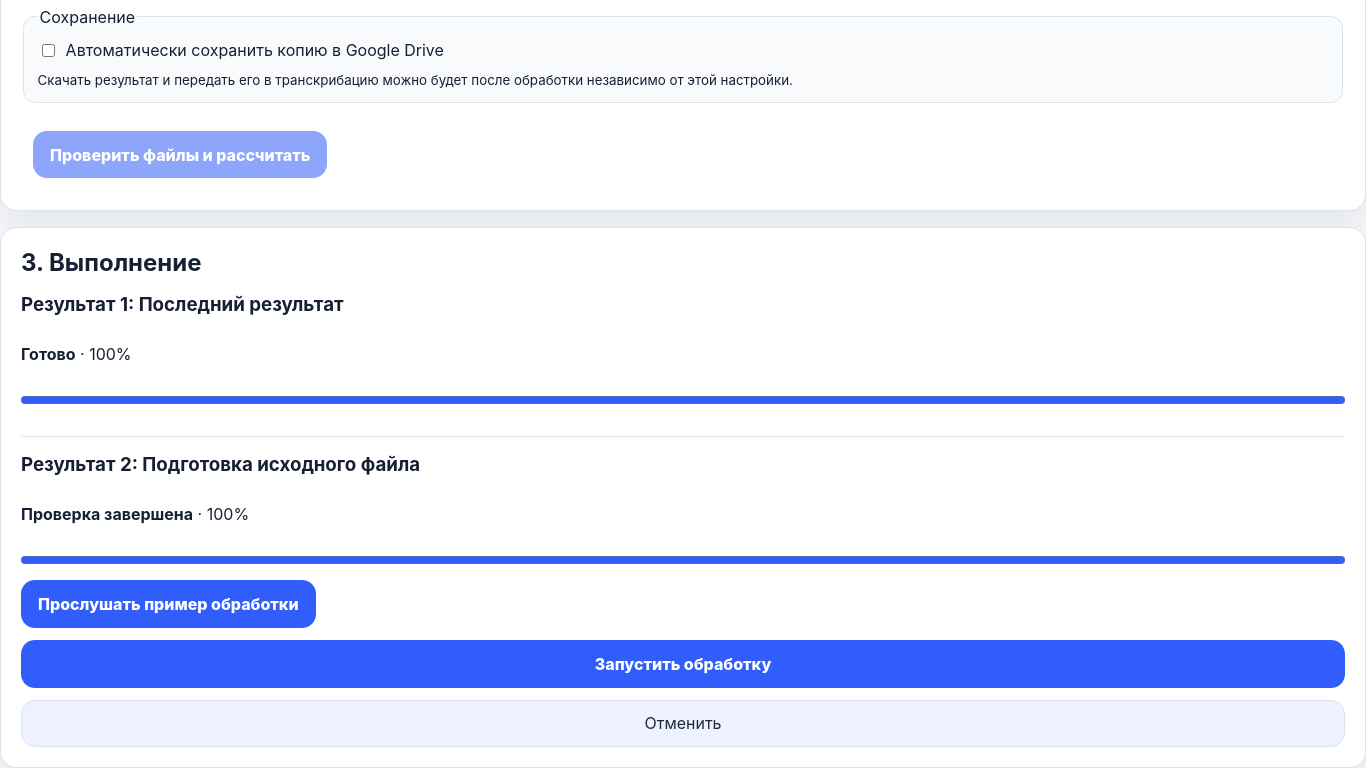
it: AudioPreparationPage › restores older pending previews and allows cancelling them to release their sources
(page scrolled)
Click the button "Отменить". click: (683, 723)
box: [21,700,1345,747]
(page scrolled)
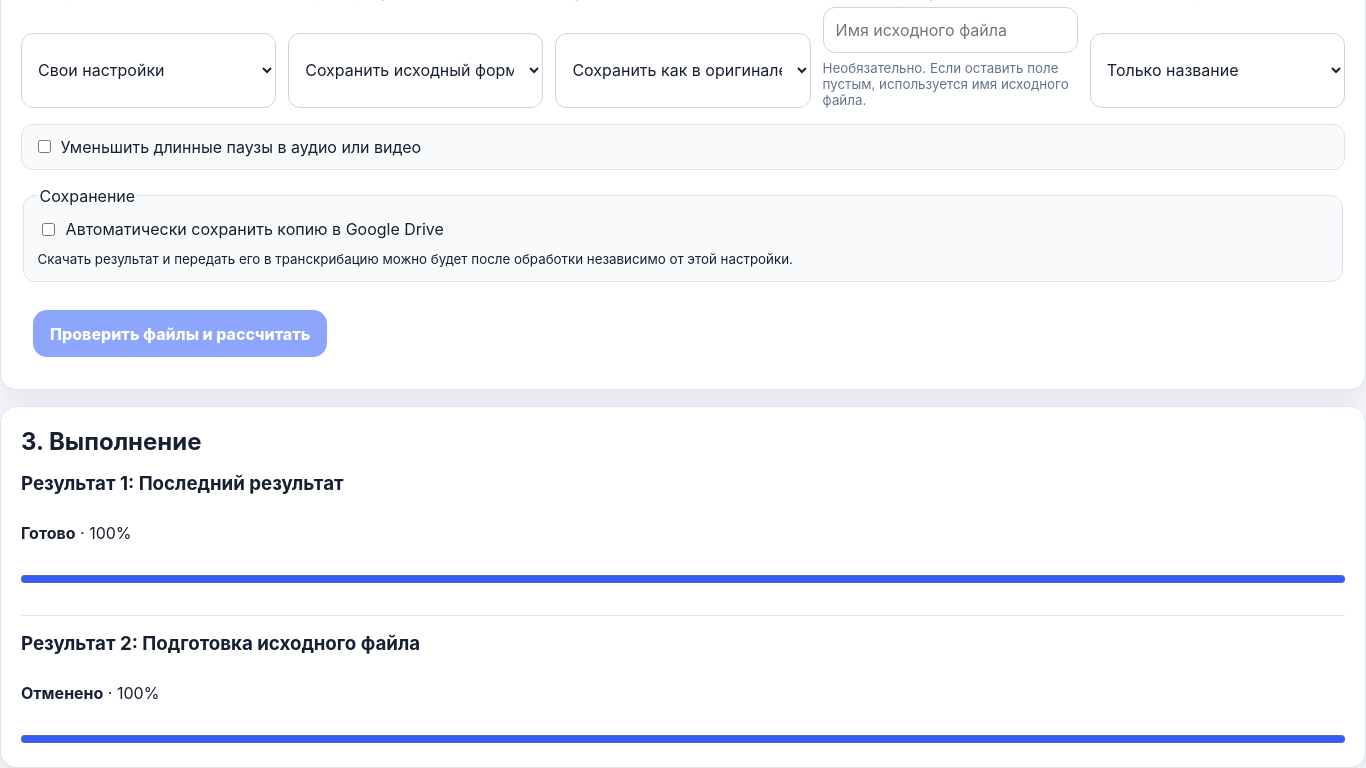
Now the text "Отменено" is shown, box [21,683,103,703]
Now the button "Отменить" is gone
